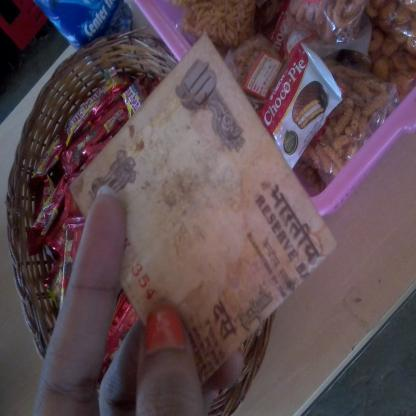Old10Front: (66, 29, 336, 388)
